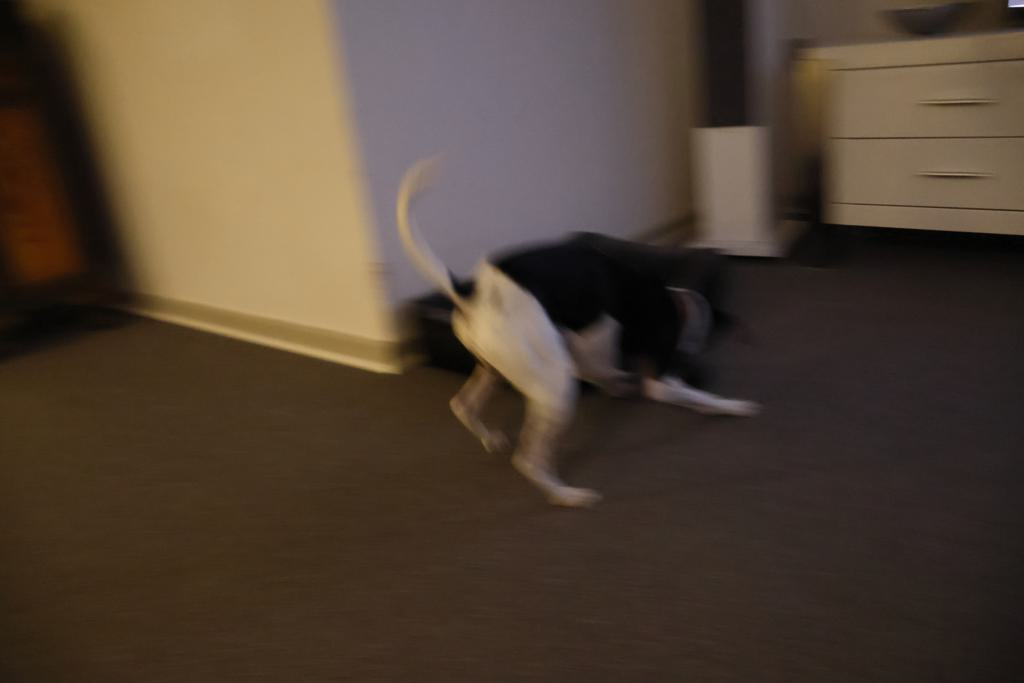Dog: (383, 145, 769, 513)
